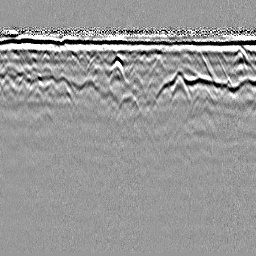cavity: (115, 92, 142, 115)
